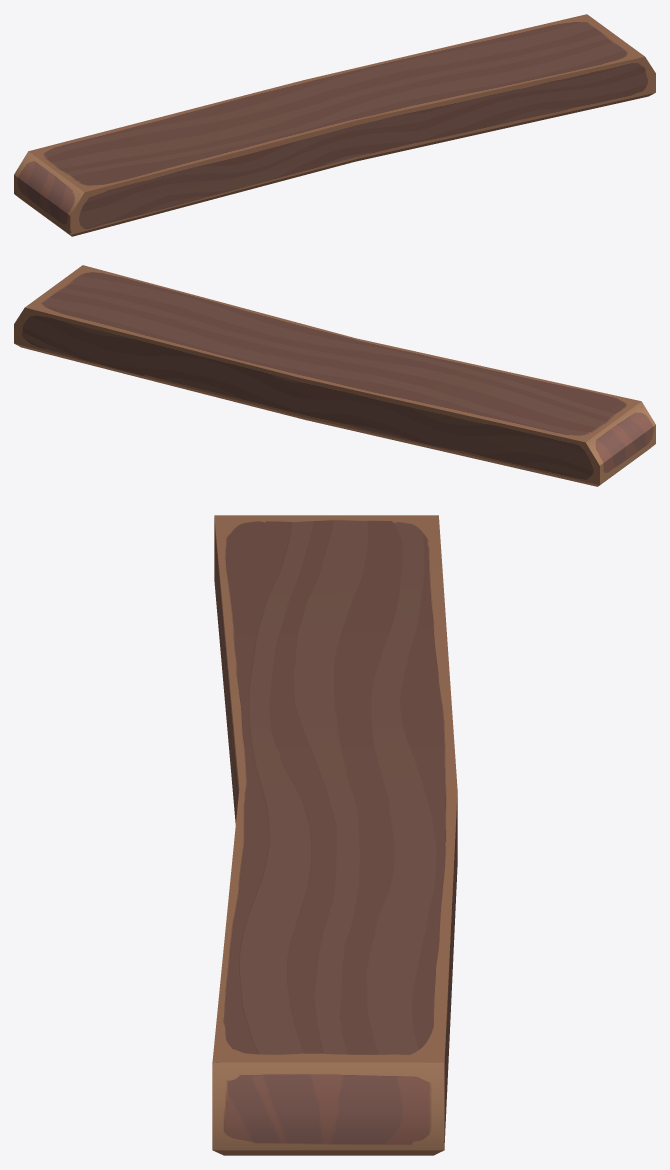
File: TablonGrande3.fbx
The picture shows the model from 3 angles, top to bottom: view 1: azimuth 30°, elevation 25°; view 2: azimuth 150°, elevation 25°; view 3: azimuth 270°, elevation 25°; orthographic projection. The views are drawn at different scales.
Visible parts, largest first — view 1: TablonGrande3; view 2: TablonGrande3; view 3: TablonGrande3.
Part boxes in pixels (x1,y1,x2,y2): TablonGrande3: (14, 14, 655, 236); TablonGrande3: (14, 265, 655, 486); TablonGrande3: (212, 515, 457, 1155).
Bounding box in the file's own units: 3.66 × 0.2636 × 0.6652.
